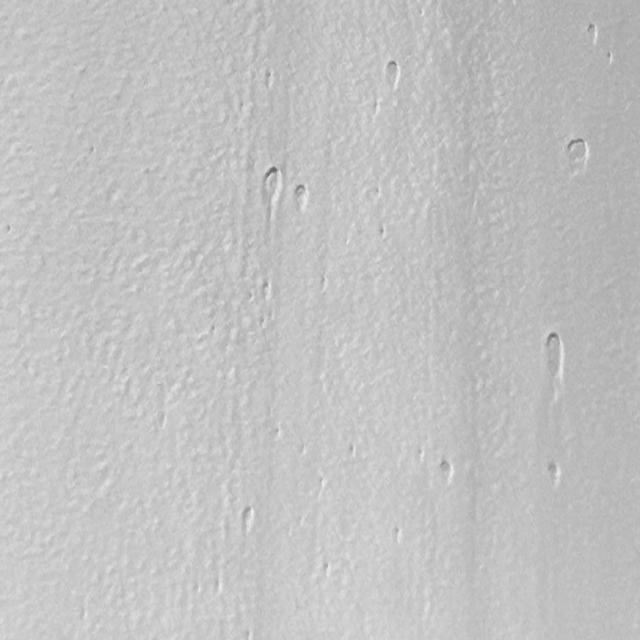pin holes: (536, 331, 568, 389), (255, 164, 285, 218), (562, 136, 590, 176), (290, 181, 312, 213), (545, 458, 566, 487), (237, 506, 258, 535), (382, 60, 402, 90), (436, 456, 456, 486), (584, 22, 601, 46), (258, 280, 274, 302), (320, 558, 334, 580), (393, 525, 406, 547), (264, 70, 276, 91), (348, 440, 359, 459), (377, 224, 389, 241), (606, 50, 616, 66)
